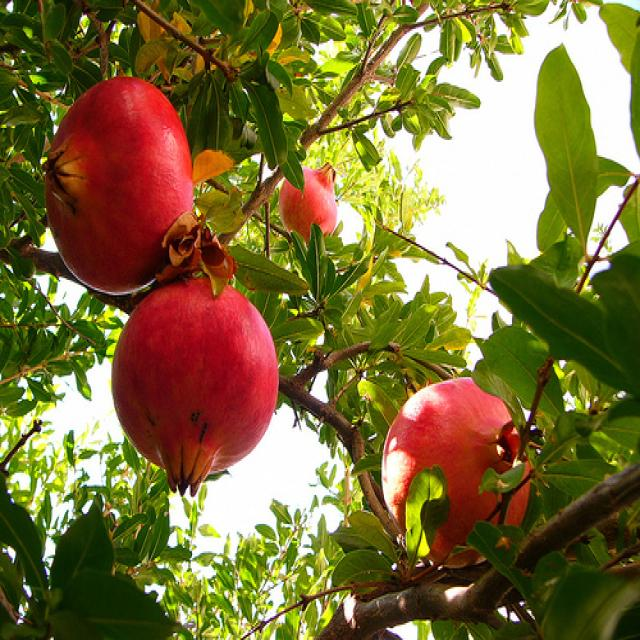apple: (109, 272, 287, 506), (48, 77, 212, 297), (376, 374, 543, 577), (275, 156, 346, 242)
